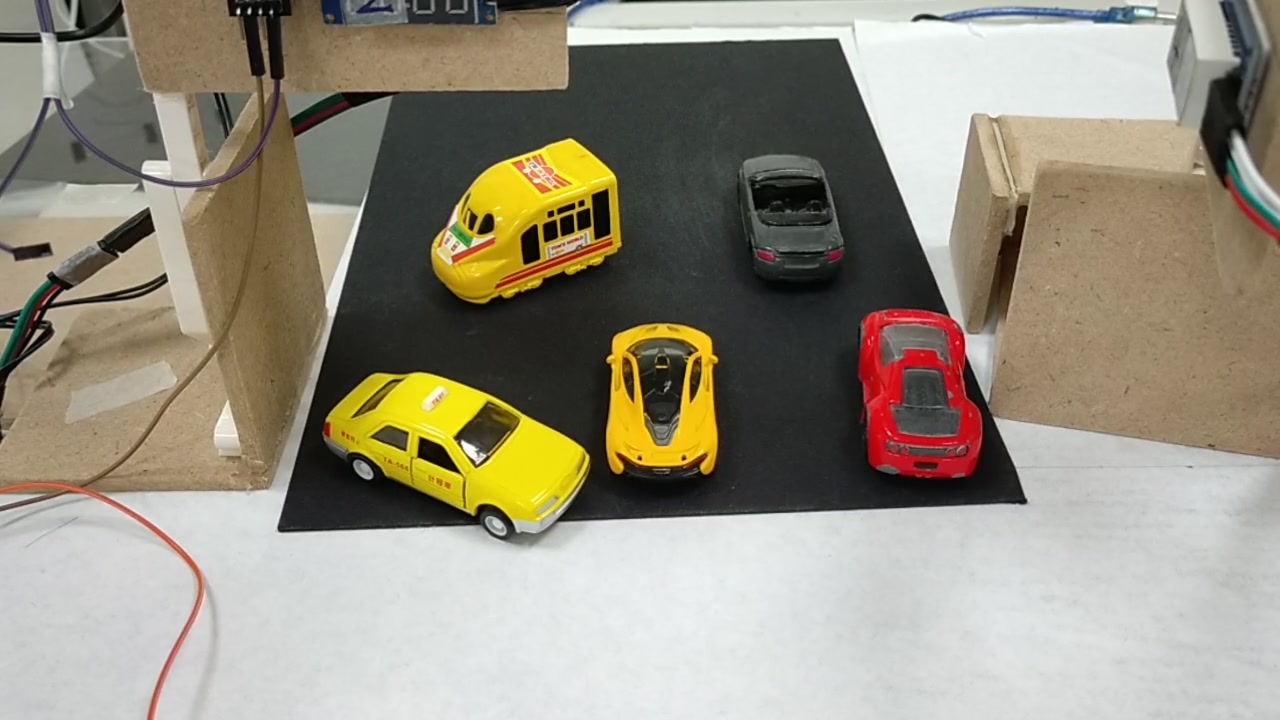car: (319, 364, 588, 546), (860, 308, 983, 485), (602, 321, 723, 485), (734, 152, 844, 275)
